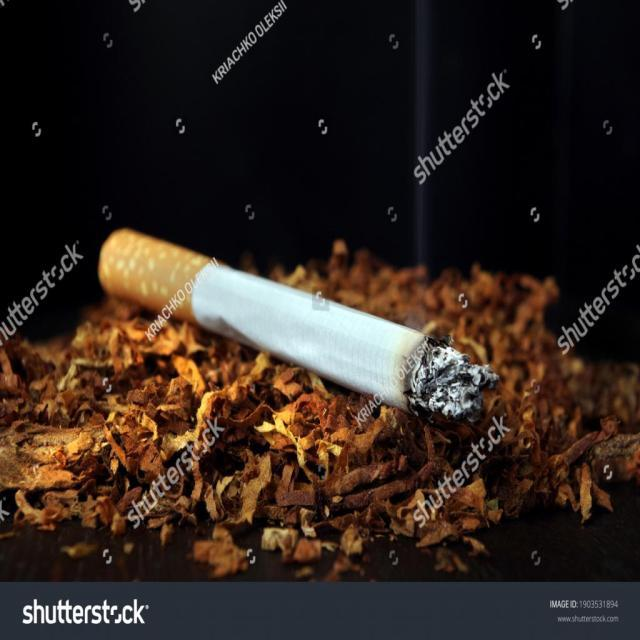smoking: (84, 220, 505, 440)
